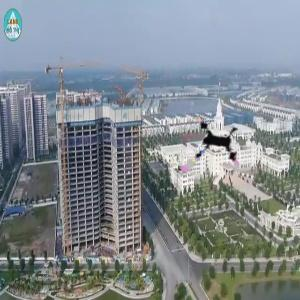drone: (173, 111, 250, 188)
